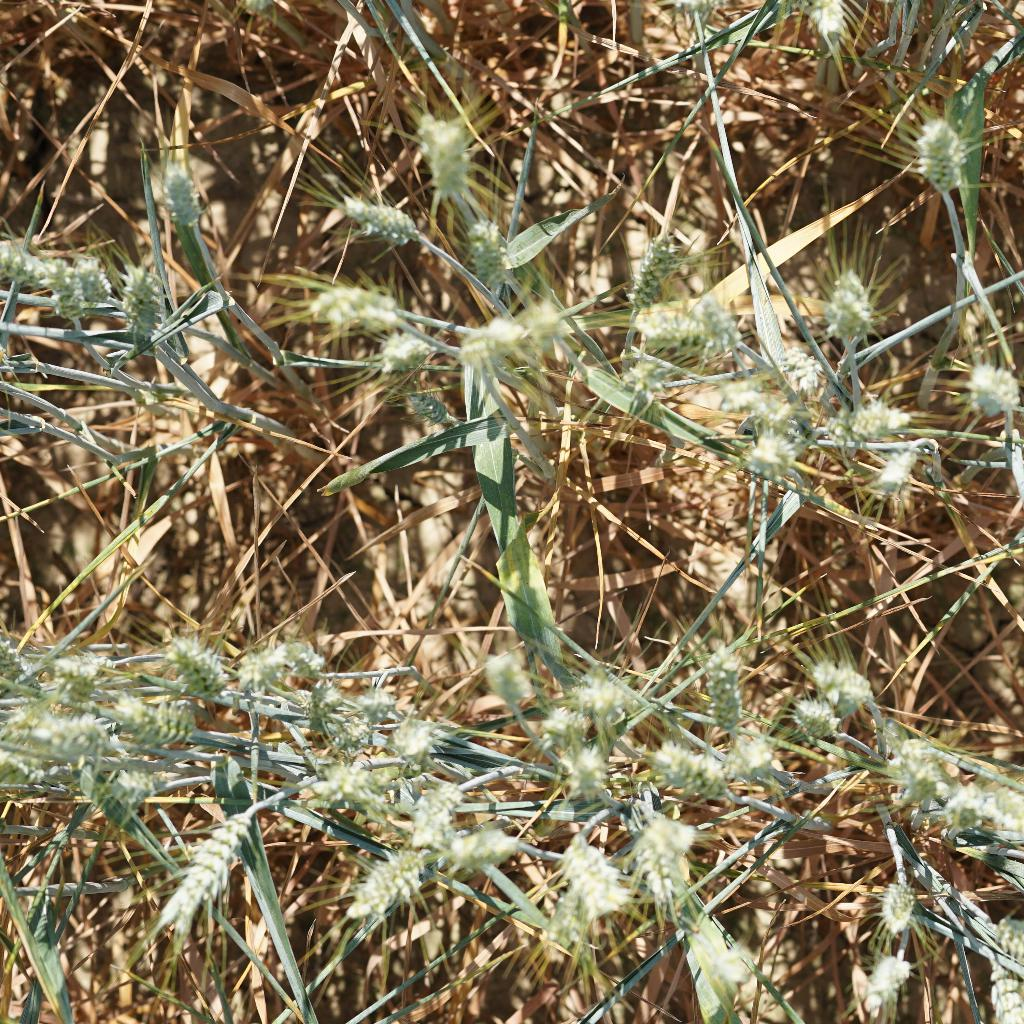0-0: (148, 795, 262, 942), (336, 833, 425, 934), (546, 825, 636, 922), (901, 105, 987, 200), (325, 187, 440, 258), (628, 802, 707, 904), (411, 107, 481, 210), (802, 647, 893, 725), (434, 811, 529, 885), (647, 728, 743, 798), (691, 642, 759, 736), (2, 699, 111, 757), (403, 765, 467, 859), (460, 215, 529, 302), (813, 257, 878, 346), (298, 280, 407, 333), (153, 621, 228, 697), (944, 776, 1024, 847), (851, 942, 927, 1016), (886, 727, 956, 806), (239, 632, 337, 688), (474, 632, 538, 717), (305, 752, 389, 815), (107, 694, 208, 746), (561, 657, 641, 721), (728, 415, 813, 475), (960, 358, 1024, 436), (545, 732, 623, 795), (2, 631, 65, 708), (789, 691, 858, 759), (613, 357, 681, 425), (306, 687, 381, 747), (819, 395, 923, 438), (855, 443, 945, 492), (120, 265, 175, 343), (0, 238, 68, 296), (871, 874, 929, 942), (378, 324, 448, 380), (385, 707, 451, 766), (627, 302, 713, 347), (160, 163, 209, 240), (51, 645, 116, 701), (777, 339, 843, 391), (0, 745, 58, 802), (515, 299, 579, 350), (44, 251, 88, 325), (90, 758, 167, 800), (478, 311, 539, 363), (727, 363, 791, 408), (795, 0, 863, 40), (980, 909, 1024, 967), (71, 250, 116, 301)
